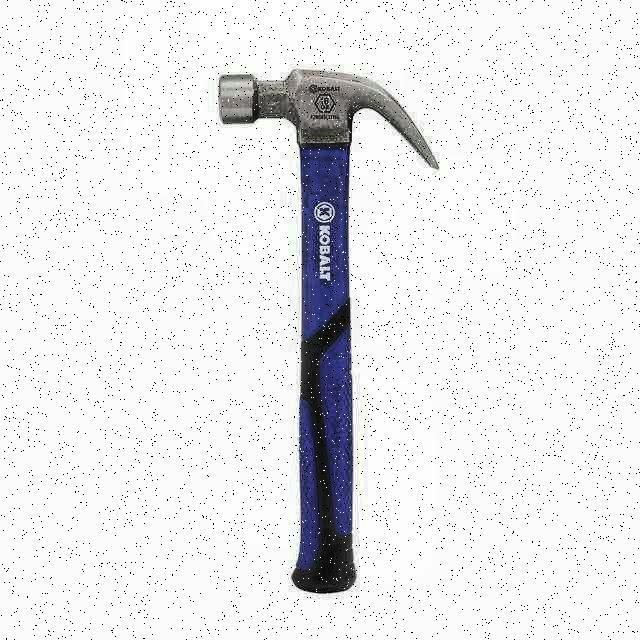hammer: (218, 68, 438, 604)
